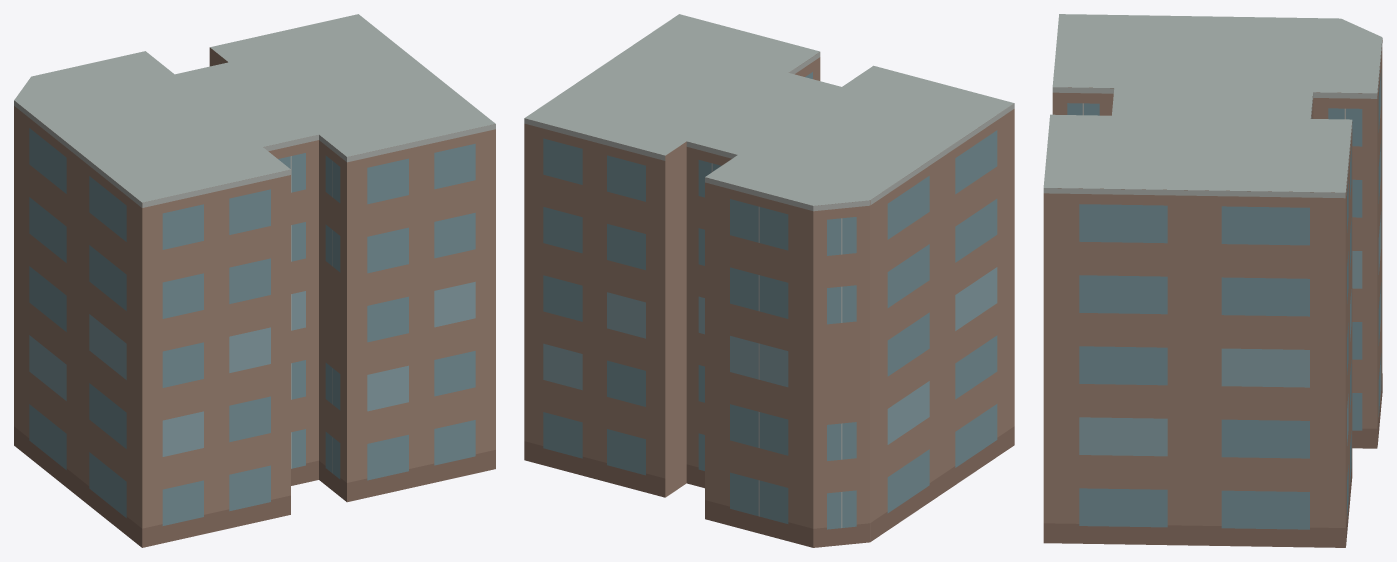
Rendered from survey-upis-33005712.glb.
3 views of the same model, side by side, from view 1: azimuth 30°, elevation 25°; view 2: azimuth 150°, elevation 25°; view 3: azimuth 270°, elevation 25° (orthographic). The views are drawn at different scales.
Visible parts, largest first — view 1: survey-upis-33005712.tmp; view 2: survey-upis-33005712.tmp; view 3: survey-upis-33005712.tmp.
Boxes of the visible parts, x1,y1,x2,y2 form: survey-upis-33005712.tmp: (14,14,495,547); survey-upis-33005712.tmp: (524,14,1014,547); survey-upis-33005712.tmp: (1043,14,1382,547).
Bounding box in the file's own units: 16.83 × 15.6 × 13.5.
